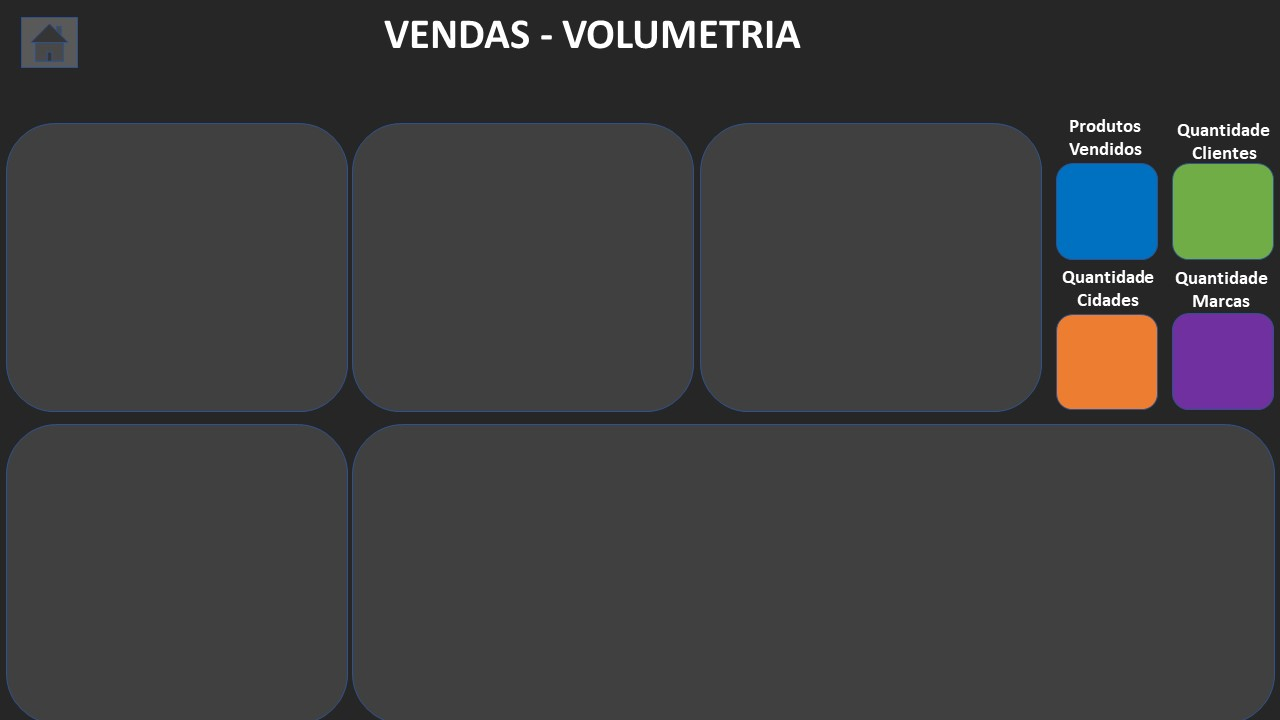

This screenshot's page, from the dashboard's own definition file:
{"tool":"powerbi","page":{"name":"VOLUMETRIA","canvas":[1280,720],"ordinal":1},"visuals":[{"type":"card","fields":{"Values":["Count(Base_Qtd_Vendas.ID_PRODUTO)"]},"box":[1060.2,160.2,93.5,83.6],"z":0},{"type":"card","fields":{"Values":["Count(Base_Qtd_Vendas.COD_CLIENTE)"]},"box":[1170.7,161.6,107.7,83.6],"z":1000},{"type":"card","fields":{"Values":["Count(Base_Qtd_Vendas.LOJA)"]},"box":[1063,310.4,85,76.5],"z":2000},{"type":"card","fields":{"Values":["Count(Base_Qtd_Vendas.Marca)"]},"box":[1180.6,311.8,85,76.5],"z":3000},{"type":"pieChart","fields":{"Category":["Base_Qtd_Vendas.REGIAO"],"Y":["CountNonNull(Base_Qtd_Vendas.REGIAO)"]},"box":[8.5,133.2,365.7,280.6],"z":4000},{"type":"clusteredColumnChart","fields":{"Y":["Sum(Base_Qtd_Vendas.QUANTIDADE)"],"Category":["Base_Qtd_Vendas.LOJA"]},"box":[350.1,413.9,929.8,306.1],"z":5000},{"type":"columnChart","fields":{"Y":["Sum(Base_Qtd_Vendas.QUANTIDADE)"],"Category":["Base_Qtd_Vendas.Ano"]},"box":[358.6,99.2,330.2,314.6],"z":6000},{"type":"columnChart","fields":{"Y":["Sum(Base_Qtd_Vendas.QUANTIDADE)"],"Category":["Base_Produto.CATEGORIA"]},"box":[697.3,95,343,331.7],"z":7000},{"type":"pieChart","fields":{"Category":["Base_Qtd_Vendas.TIPO_CLIENTE"],"Y":["Sum(Base_Qtd_Vendas.QUANTIDADE)"]},"box":[17,445,423.8,275],"z":8000},{"type":"actionButton","box":[21.3,14.2,58.1,51],"z":9000},{"type":"shape","box":[96.4,76.5,167.2,45.4],"z":10000},{"type":"shape","box":[440.8,76.5,167.2,45.4],"z":11000},{"type":"shape","box":[734.2,80.8,260.8,35.4],"z":12000},{"type":"shape","box":[79.4,411,216.9,45.4],"z":13000},{"type":"shape","box":[766.8,411,216.9,45.4],"z":14000},{"type":"slicer","fields":{"Values":["Base_Qtd_Vendas.Ano"]},"box":[1123.9,26.9,154.5,56.7],"z":15000},{"type":"slicer","fields":{"Values":["Base_Qtd_Vendas.Nome do Mês"]},"box":[952.4,28.3,172.9,48.2],"z":16000},{"type":"shape","box":[952.4,1.4,167.2,34],"z":17000},{"type":"shape","box":[1112.8,0,167.2,34],"z":18000}]}

Visuals, with their boxes in screenshot pixels (x1, y1, x2, y2), scaled from the page's 1280x720 canvas onto the 1280x720 screenshot:
card - Count(Base_Qtd_Vendas.ID_PRODUTO): x1=1060, y1=160, x2=1154, y2=244
card - Count(Base_Qtd_Vendas.COD_CLIENTE): x1=1171, y1=162, x2=1278, y2=245
card - Count(Base_Qtd_Vendas.LOJA): x1=1063, y1=310, x2=1148, y2=387
card - Count(Base_Qtd_Vendas.Marca): x1=1181, y1=312, x2=1266, y2=388
pieChart - Base_Qtd_Vendas.REGIAO x CountNonNull(Base_Qtd_Vendas.REGIAO): x1=8, y1=133, x2=374, y2=414
clusteredColumnChart - Sum(Base_Qtd_Vendas.QUANTIDADE) x Base_Qtd_Vendas.LOJA: x1=350, y1=414, x2=1279, y2=719
columnChart - Sum(Base_Qtd_Vendas.QUANTIDADE) x Base_Qtd_Vendas.Ano: x1=359, y1=99, x2=689, y2=414
columnChart - Sum(Base_Qtd_Vendas.QUANTIDADE) x Base_Produto.CATEGORIA: x1=697, y1=95, x2=1040, y2=427
pieChart - Base_Qtd_Vendas.TIPO_CLIENTE x Sum(Base_Qtd_Vendas.QUANTIDADE): x1=17, y1=445, x2=441, y2=719
actionButton: x1=21, y1=14, x2=79, y2=65
shape: x1=96, y1=76, x2=264, y2=122
shape: x1=441, y1=76, x2=608, y2=122
shape: x1=734, y1=81, x2=995, y2=116
shape: x1=79, y1=411, x2=296, y2=456
shape: x1=767, y1=411, x2=984, y2=456
slicer - Base_Qtd_Vendas.Ano: x1=1124, y1=27, x2=1278, y2=84
slicer - Base_Qtd_Vendas.Nome do Mês: x1=952, y1=28, x2=1125, y2=76
shape: x1=952, y1=1, x2=1120, y2=35
shape: x1=1113, y1=0, x2=1279, y2=34
